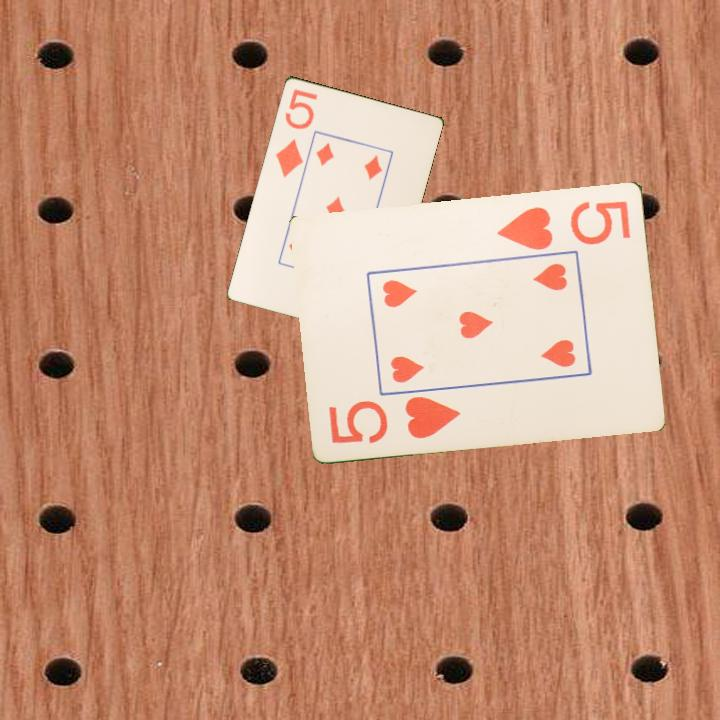5d: (271, 85, 320, 180)
5h: (494, 196, 634, 252), (325, 392, 464, 446)
